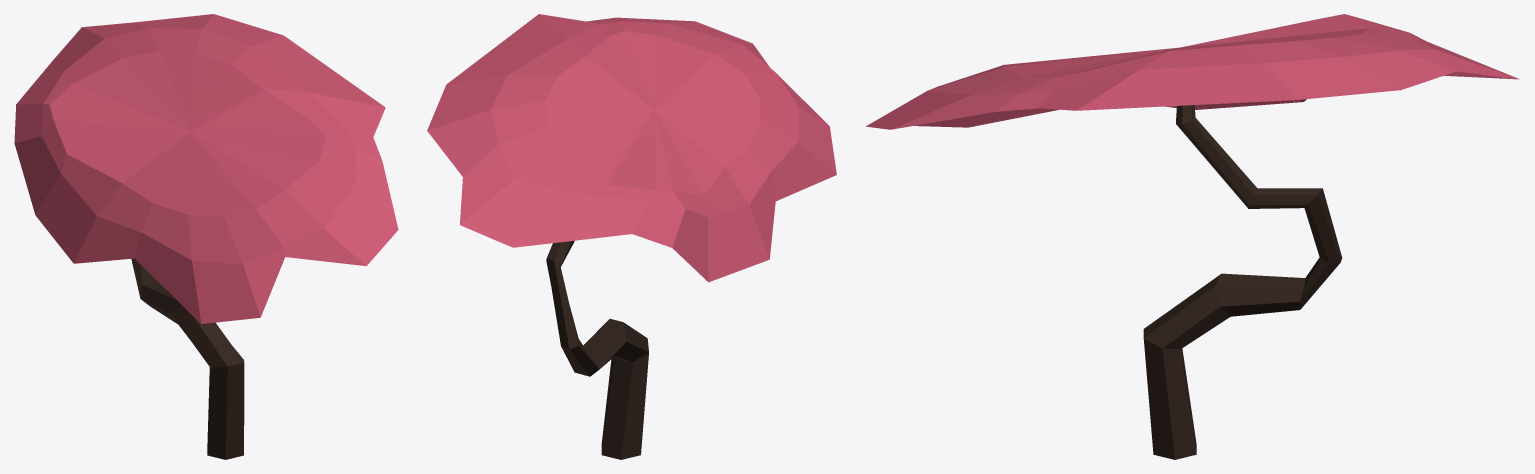
The model's file is Platdakboom_2.fbx.
The picture shows the model from 3 angles, left to right: view 1: azimuth 30°, elevation 25°; view 2: azimuth 150°, elevation 25°; view 3: azimuth 270°, elevation 25°; orthographic projection. The views are drawn at different scales.
Visible parts, largest first — view 1: pCylinder14; view 2: pCylinder14; view 3: pCylinder14.
Boxes of the visible parts, bbox=[...] form: pCylinder14: bbox=[14, 14, 398, 459]; pCylinder14: bbox=[427, 14, 836, 459]; pCylinder14: bbox=[866, 14, 1519, 459].
Size of the model in its own units: 0.104 by 0.1362 by 0.1906.
